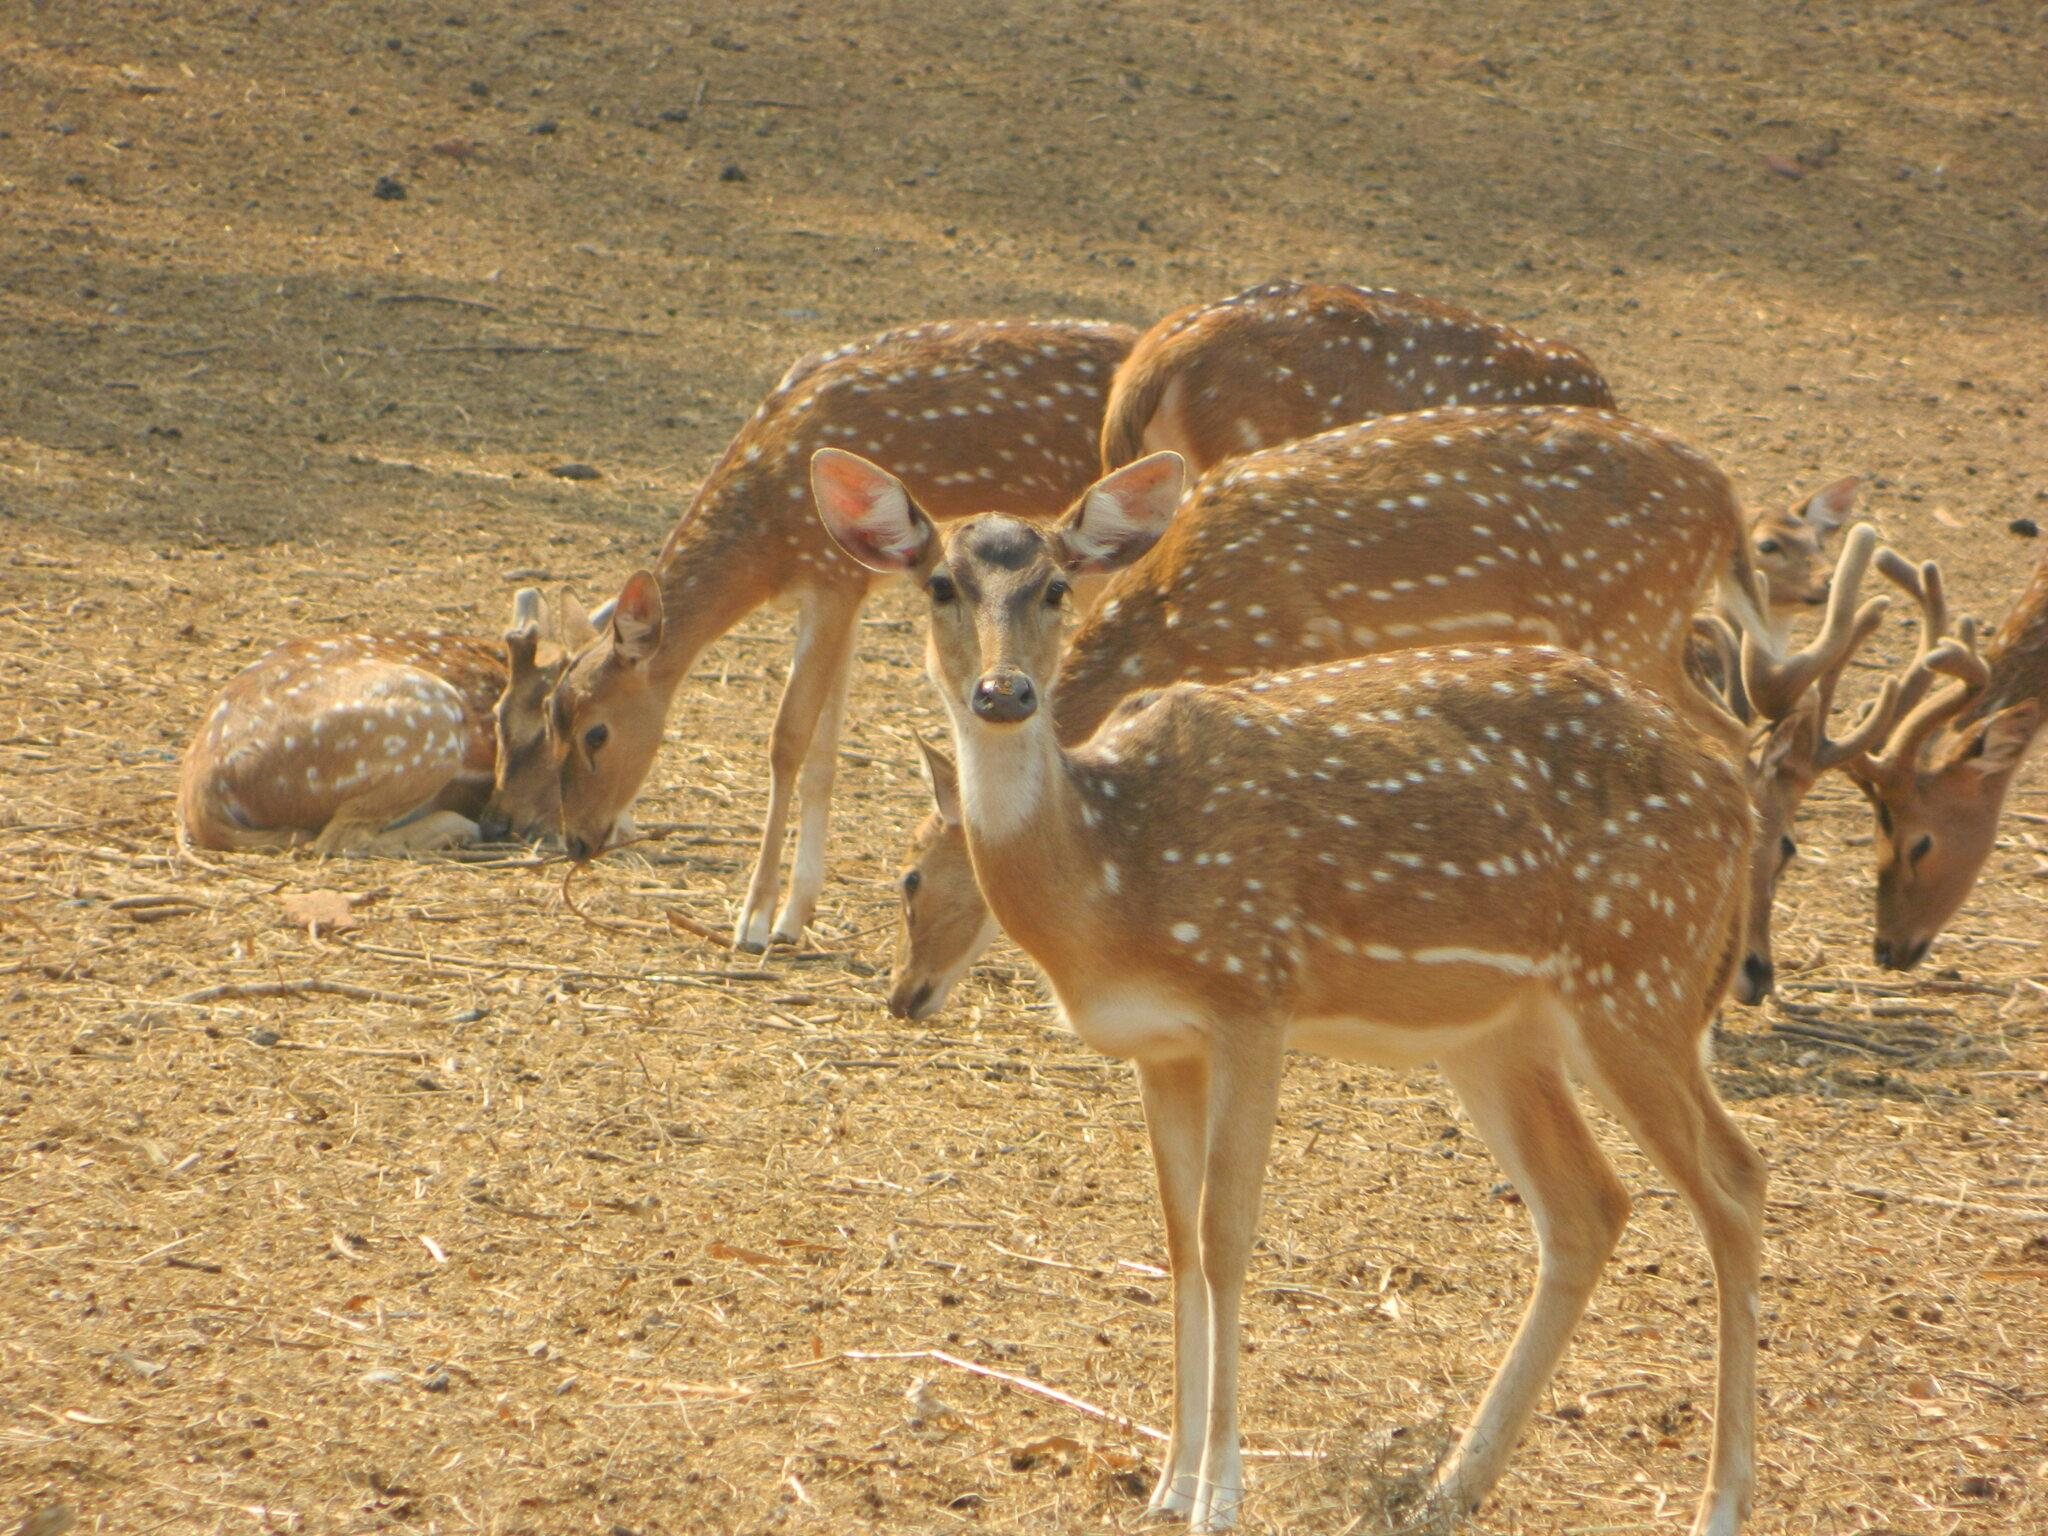Deer: (810, 449, 1764, 1534), (552, 318, 1135, 949), (177, 589, 568, 857)
